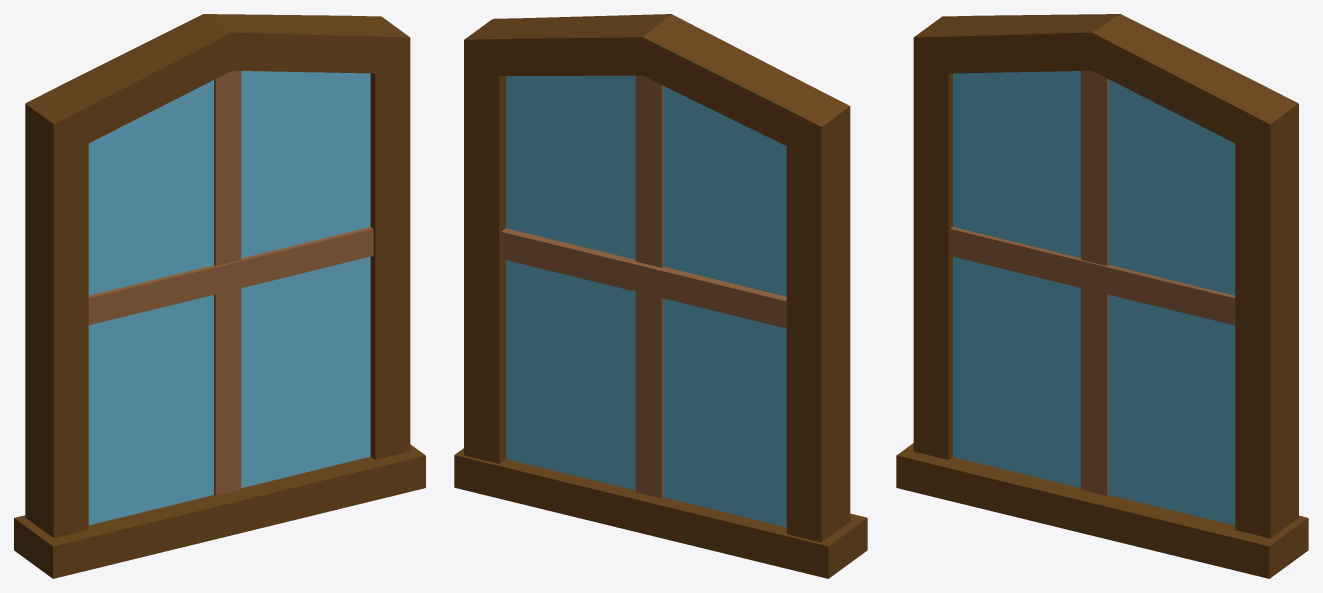
Rendered from Window_04.fbx.
3 views of the same model, side by side, from view 1: azimuth 30°, elevation 25°; view 2: azimuth 150°, elevation 25°; view 3: azimuth 330°, elevation 25° (orthographic).
Visible parts, largest first — view 1: Window_04; view 2: Window_04; view 3: Window_04.
Boxes of the visible parts, box(x1,y1,x2,y2) form: Window_04: box(14, 14, 425, 578); Window_04: box(454, 14, 867, 578); Window_04: box(896, 14, 1308, 578).
Size of the model in its own units: 106 by 134 by 19.14.
